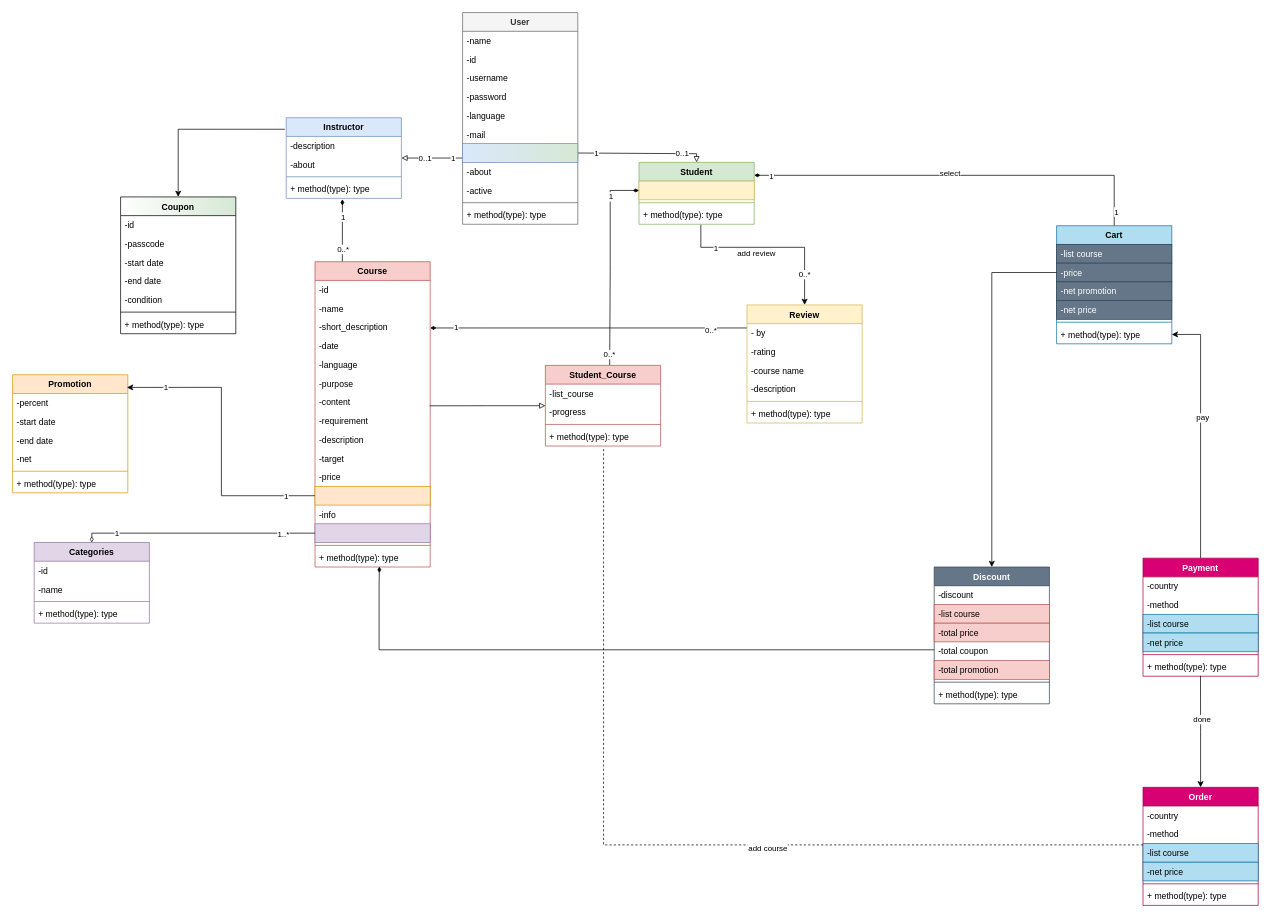
Some shapes in this 1271 by 920 pixel diagram are drawn without their labels. The shapes that lost their labels are listed below. From the top down, each one's centre as x and y in pixels, then its label:
point (520, 152): -role
point (696, 190): -review
point (372, 495): -promotion
point (372, 533): -categories
